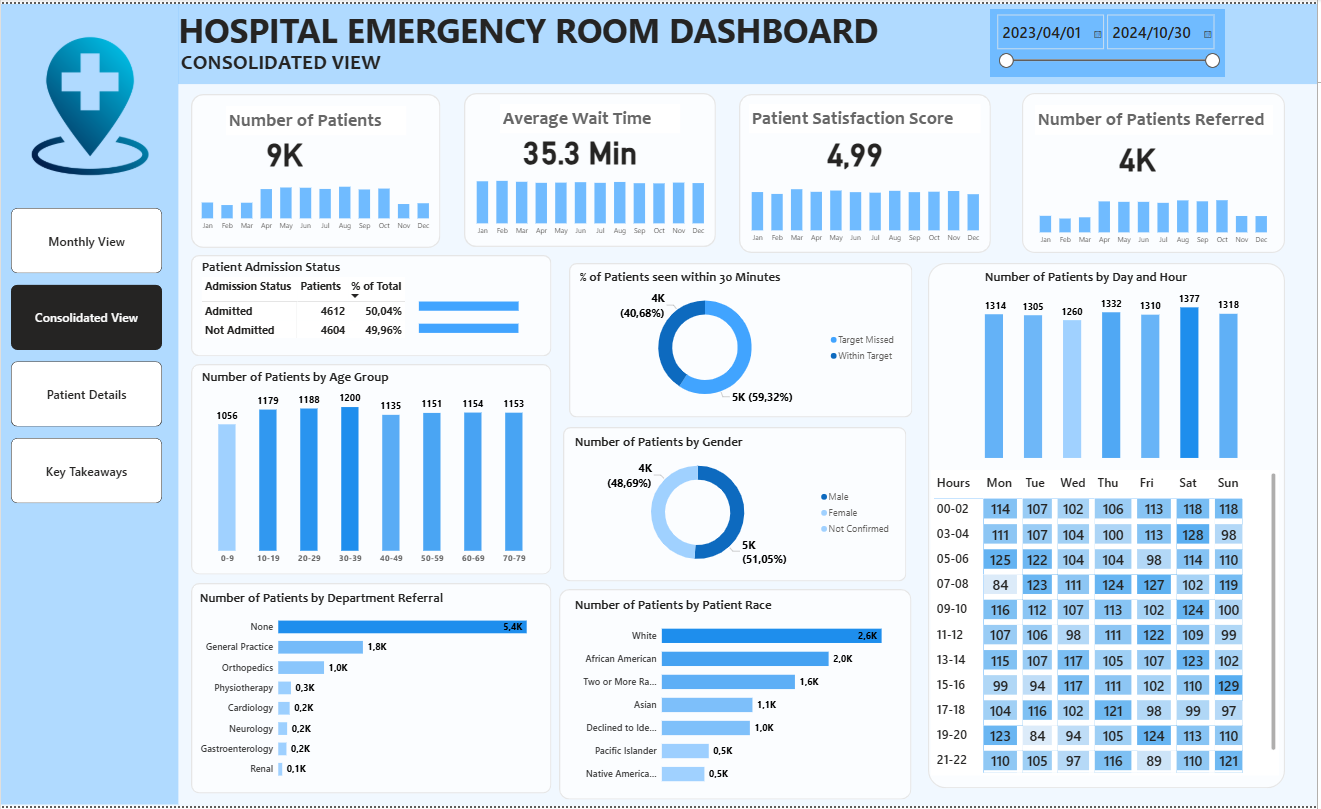

Layout of this report page (visuals, bound fields, positions):
{"tool":"powerbi","page":{"name":"Consolidated View","canvas":[2300,1400],"ordinal":1},"visuals":[{"type":"shape","box":[0,0,310.4,1399.4],"z":0},{"type":"shape","box":[309.3,0,1990.7,140],"z":1000},{"type":"textbox","box":[290.1,0,1359.7,183.5],"z":2000},{"type":"textbox","box":[310,74,414,200],"z":3000},{"type":"slicer","fields":{"Values":["Date Table.Date"]},"box":[1728,8,410,118],"z":4000},{"type":"shape","box":[331.9,157.9,436,269.1],"z":6000},{"type":"cardVisual","fields":{"Data":["Hospital ER_Data.Number of Patients"]},"box":[446,204,200,110],"z":7000},{"type":"textbox","box":[393.2,178.3,314.6,50.7],"z":8000},{"type":"columnChart","fields":{"Category":["Date Table.Month Name"],"Y":["Hospital ER_Data.Number of Patients"]},"box":[332.1,280.4,435.2,125],"z":9000},{"type":"shape","box":[808.6,155.5,440.4,269.1],"z":11000},{"type":"cardVisual","fields":{"Data":["Hospital ER_Data.Avg Wait time"]},"box":[894,200,256,112],"z":12000},{"type":"textbox","box":[872.1,174.8,314.6,50.7],"z":13000},{"type":"columnChart","fields":{"Category":["Date Table.Month Name"],"Y":["Avg(Hospital ER_Data.Patient Waittime)"]},"box":[812.2,288.7,435.2,125],"z":14000},{"type":"shape","box":[1290.4,157.3,440.4,277.9],"z":15000},{"type":"cardVisual","fields":{"Data":["Hospital ER_Data.Satisfaction Score"]},"box":[1426.3,204.5,193.8,109.4],"z":16000},{"type":"textbox","box":[1307.3,174.8,405.5,50.7],"z":17000},{"type":"columnChart","fields":{"Category":["Date Table.Month Name"],"Y":["Hospital ER_Data.Satisfaction Score"]},"box":[1292.8,300.9,435.2,125],"z":18000},{"type":"shape","box":[1784.4,155.5,459.7,279.6],"z":19000},{"type":"cardVisual","fields":{"Data":["Hospital ER_Data.Number of Patient Referred"]},"box":[1936,214,150,108],"z":20000},{"type":"textbox","box":[1806.6,175.8,416.2,52],"z":21000},{"type":"columnChart","fields":{"Category":["Date Table.Month Name"],"Y":["Hospital ER_Data.Number of Patient Referred"]},"box":[1797.4,303.9,435.2,125],"z":22000},{"type":"shape","box":[331.9,439.5,630,177],"z":23000},{"type":"pivotTable","title":"Patient Admission Status","fields":{"Rows":["Hospital ER_Data.Admission Status"],"Values":["Hospital ER_Data.Number of Patients1","Hospital ER_Data.Number of Patients"]},"box":[346.3,443.1,601,166.8],"z":24000},{"type":"barChart","fields":{"Y":["Hospital ER_Data.Number of Patients"],"Category":["Hospital ER_Data.Admission Status"]},"box":[724.8,488,236.8,114.8],"z":25000},{"type":"shape","box":[331.9,629.7,629.7,368],"z":26000},{"type":"clusteredColumnChart","fields":{"Category":["Hospital ER_Data.Age Group"],"Y":["Hospital ER_Data.Number of Patients"]},"box":[346.3,636.9,601,353.4],"z":27000},{"type":"shape","box":[331.9,1011.9,629.7,367.8],"z":28000},{"type":"clusteredBarChart","fields":{"Category":["Hospital ER_Data.Department Referral"],"Y":["Hospital ER_Data.Number of Patients"]},"box":[342.7,1022.6,610,346.3],"z":29000},{"type":"shape","box":[992.1,452.4,600,269.8],"z":30000},{"type":"donutChart","title":"% of Patients seen within 30 Minutes","fields":{"Category":["Hospital ER_Data.Waittime Status"],"Y":["Hospital ER_Data.Number of Patients"]},"box":[1006.3,461.9,568.3,249.2],"z":31000},{"type":"shape","box":[983,740.2,600,269.8],"z":32000},{"type":"donutChart","title":"Number of Patients by Gender","fields":{"Category":["Hospital ER_Data.Patient Gender"],"Y":["Hospital ER_Data.Number of Patients"]},"box":[998.4,749.2,568.3,249.2],"z":33000},{"type":"shape","box":[976,1022,616,368],"z":34000},{"type":"clusteredBarChart","fields":{"Category":["Hospital ER_Data.Patient Race"],"Y":["Hospital ER_Data.Number of Patients"]},"box":[998,1034,576,346],"z":35000},{"type":"shape","box":[1620,452,624,918],"z":36000},{"type":"pivotTable","fields":{"Rows":["Hospital ER_Data.Waittime Interval"],"Columns":["Date Table.Day Name"],"Values":["Hospital ER_Data.Number of Patients"]},"box":[1626,814,608,534],"z":37000},{"type":"columnChart","title":"Number of Patients by Day and Hour","fields":{"Category":["Date Table.Day Name"],"Y":["Hospital ER_Data.Number of Patients"]},"box":[1714,462,454,338],"z":38000},{"type":"image","box":[30,52,252,252],"z":39000},{"type":"pageNavigator","box":[18,356,264,518],"z":39001}]}

Visuals, with their boxes in screenshot pixels (x1, y1, x2, y2), scaled from the page's 2300x1400 canvas onto the 1321x809 screenshot:
shape: box=[0, 0, 178, 808]
shape: box=[178, 0, 1320, 81]
textbox: box=[167, 0, 948, 106]
textbox: box=[178, 43, 416, 158]
slicer - Date Table.Date: box=[992, 5, 1228, 73]
shape: box=[191, 91, 441, 247]
cardVisual - Hospital ER_Data.Number of Patients: box=[256, 118, 371, 181]
textbox: box=[226, 103, 407, 132]
columnChart - Date Table.Month Name x Hospital ER_Data.Number of Patients: box=[191, 162, 441, 234]
shape: box=[464, 90, 717, 245]
cardVisual - Hospital ER_Data.Avg Wait time: box=[513, 116, 660, 180]
textbox: box=[501, 101, 682, 130]
columnChart - Date Table.Month Name x Avg(Hospital ER_Data.Patient Waittime): box=[466, 167, 716, 239]
shape: box=[741, 91, 994, 251]
cardVisual - Hospital ER_Data.Satisfaction Score: box=[819, 118, 931, 181]
textbox: box=[751, 101, 984, 130]
columnChart - Date Table.Month Name x Hospital ER_Data.Satisfaction Score: box=[743, 174, 992, 246]
shape: box=[1025, 90, 1289, 251]
cardVisual - Hospital ER_Data.Number of Patient Referred: box=[1112, 124, 1198, 186]
textbox: box=[1038, 102, 1277, 132]
columnChart - Date Table.Month Name x Hospital ER_Data.Number of Patient Referred: box=[1032, 176, 1282, 248]
shape: box=[191, 254, 552, 356]
"Patient Admission Status" pivotTable: box=[199, 256, 544, 352]
barChart - Hospital ER_Data.Number of Patients x Hospital ER_Data.Admission Status: box=[416, 282, 552, 348]
shape: box=[191, 364, 552, 577]
clusteredColumnChart - Hospital ER_Data.Age Group x Hospital ER_Data.Number of Patients: box=[199, 368, 544, 572]
shape: box=[191, 585, 552, 797]
clusteredBarChart - Hospital ER_Data.Department Referral x Hospital ER_Data.Number of Patients: box=[197, 591, 547, 791]
shape: box=[570, 261, 914, 417]
"% of Patients seen within 30 Minutes" donutChart: box=[578, 267, 904, 411]
shape: box=[565, 428, 909, 584]
"Number of Patients by Gender" donutChart: box=[573, 433, 900, 577]
shape: box=[561, 591, 914, 803]
clusteredBarChart - Hospital ER_Data.Patient Race x Hospital ER_Data.Number of Patients: box=[573, 598, 904, 797]
shape: box=[930, 261, 1289, 792]
pivotTable - Hospital ER_Data.Waittime Interval x Date Table.Day Name: box=[934, 470, 1283, 779]
"Number of Patients by Day and Hour" columnChart: box=[984, 267, 1245, 462]
image: box=[17, 30, 162, 176]
pageNavigator: box=[10, 206, 162, 505]
